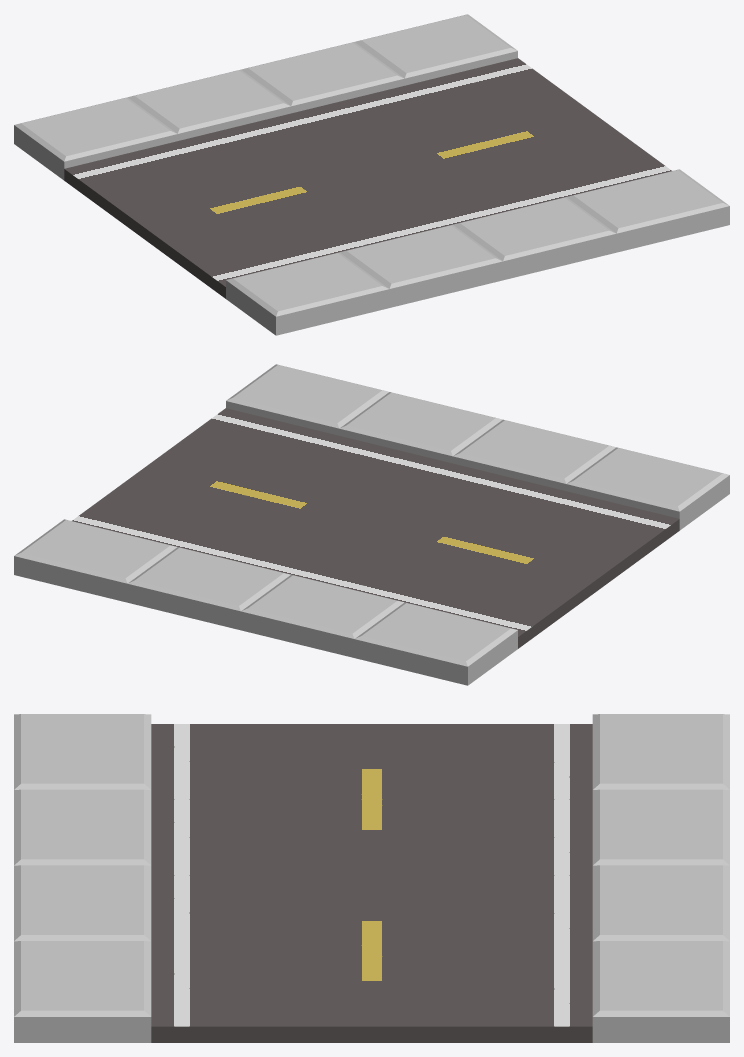
Rendered from road_straight.obj.
3 renders of one model, top to bottom at view 1: azimuth 30°, elevation 25°; view 2: azimuth 150°, elevation 25°; view 3: azimuth 270°, elevation 25°, orthographic. The views are drawn at different scales.
Visible parts, largest first — view 1: straight1-col; view 2: straight1-col; view 3: straight1-col.
Part boxes in pixels (bbox=[...]): straight1-col: bbox=[14, 14, 729, 335]; straight1-col: bbox=[14, 364, 729, 685]; straight1-col: bbox=[14, 714, 729, 1042].
Bounding box in the file's own units: 10 × 0.45 × 10.
4 materials, 3 textured.
